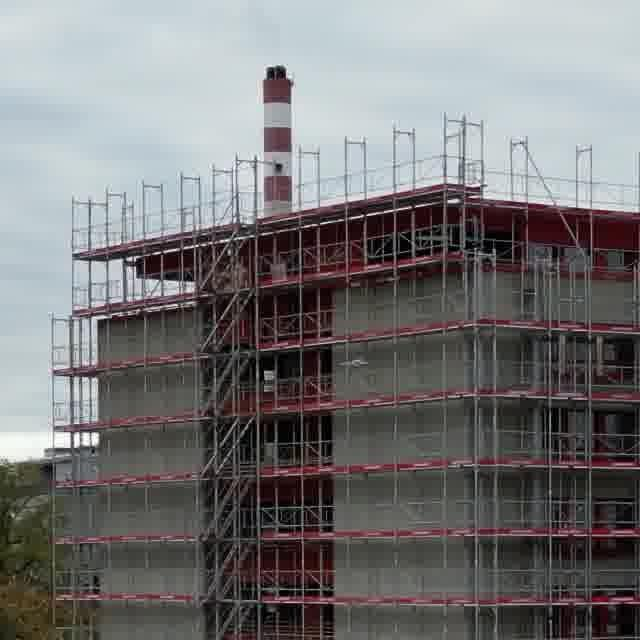Drohne: (340, 358, 367, 367)
